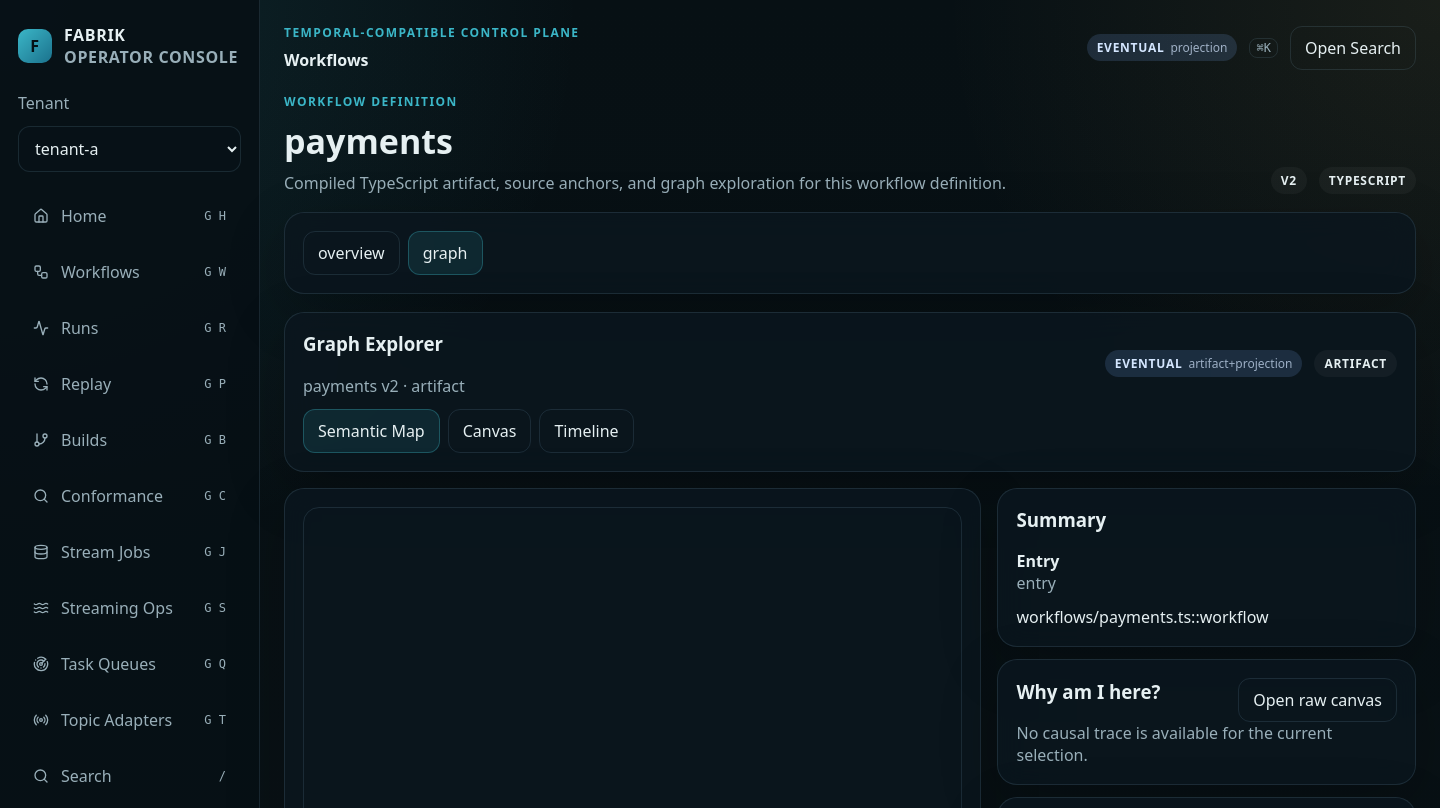
Scenario: runs dry-run rollout validation from workflow definition detail
The width and height of the screenshot is (1440, 808).
Step 1. Click the button "overview" → (351, 253), box top-left (303, 231), bottom-right (400, 275)
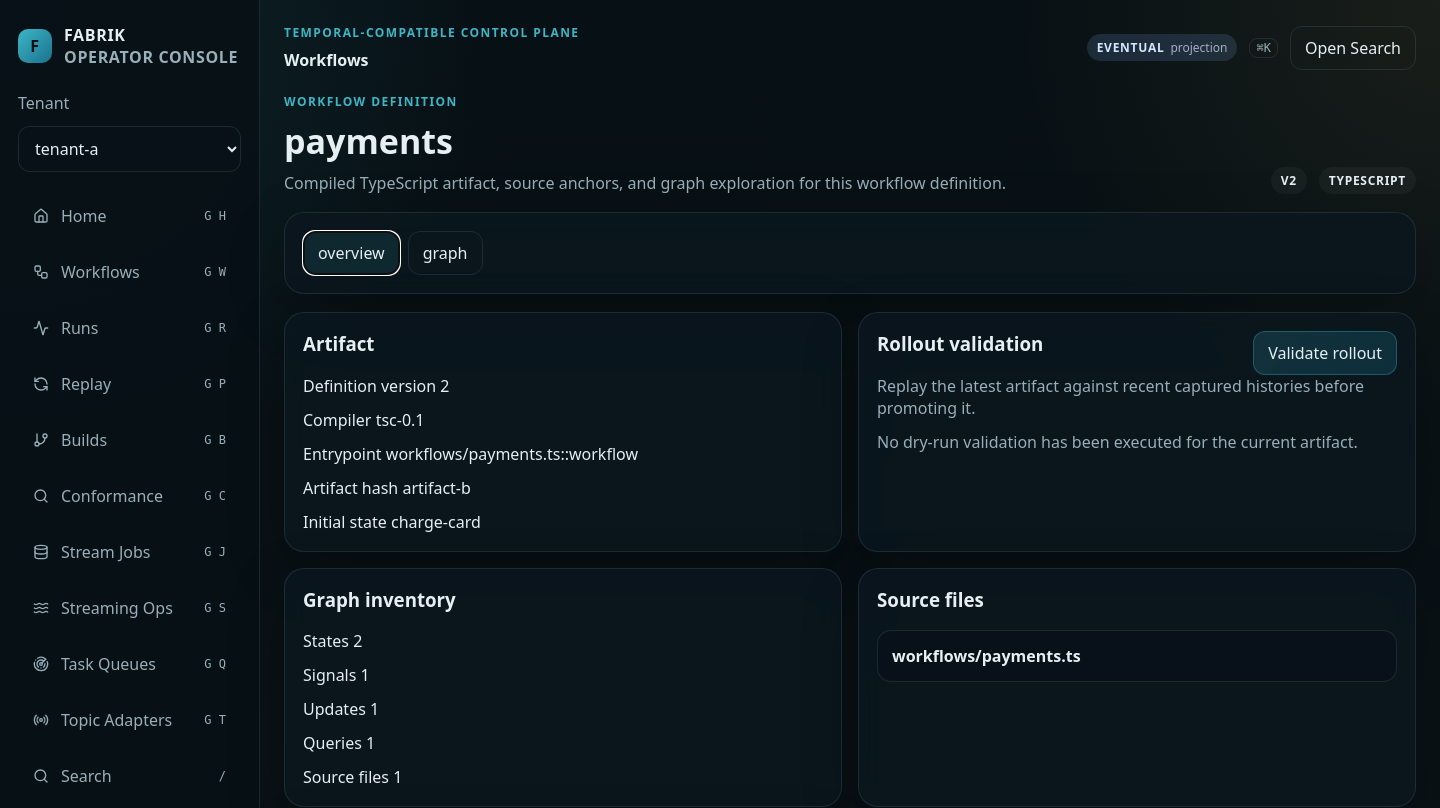
Step 2. Click the button "Validate rollout" → (1325, 353), box top-left (1253, 331), bottom-right (1397, 375)
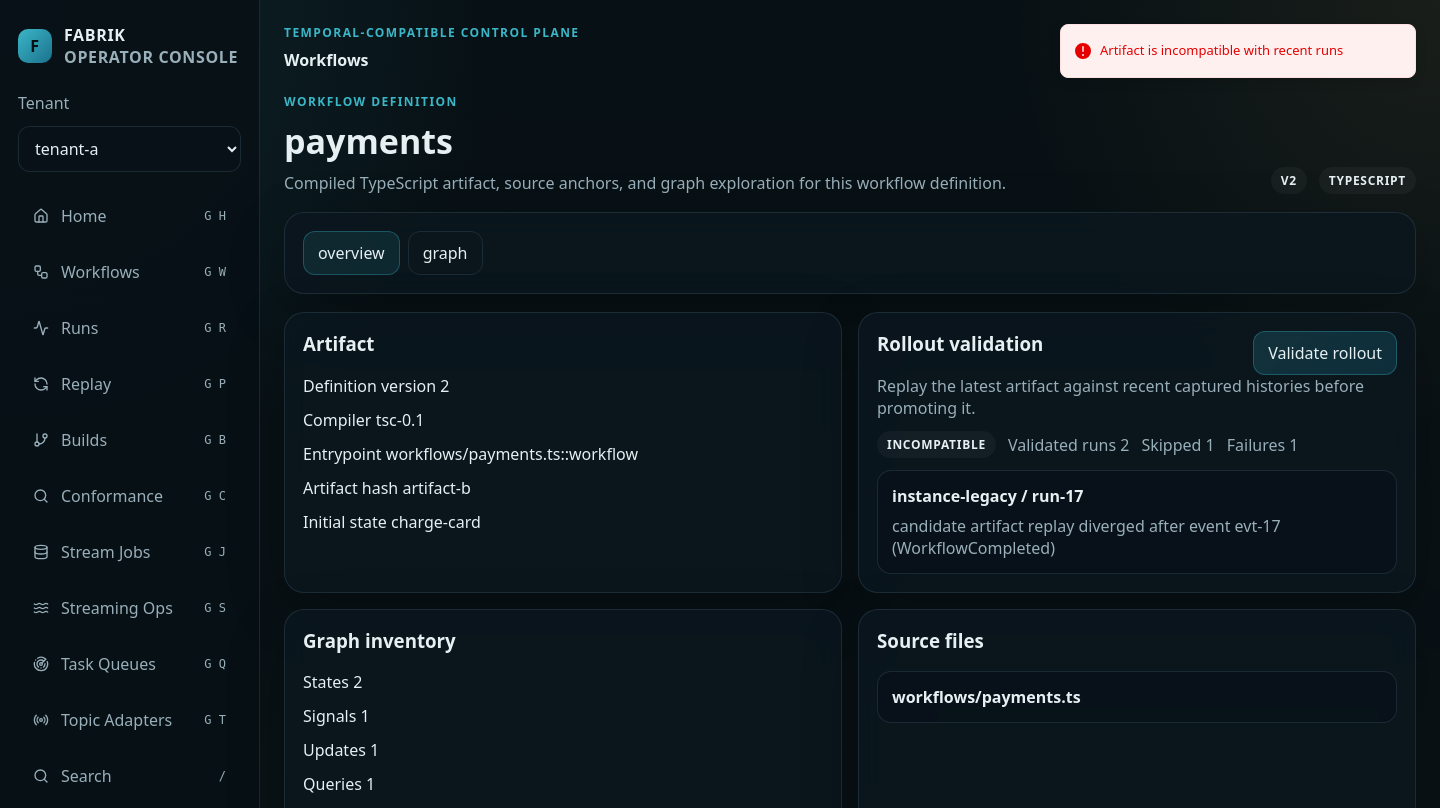
Check: the text "incompatible" is shown, box top-left (877, 431), bottom-right (996, 458)
Check: the text "Validated runs 2" is shown, box top-left (1008, 434), bottom-right (1129, 456)
Check: the text "Skipped 1" is shown, box top-left (1141, 434), bottom-right (1215, 456)
